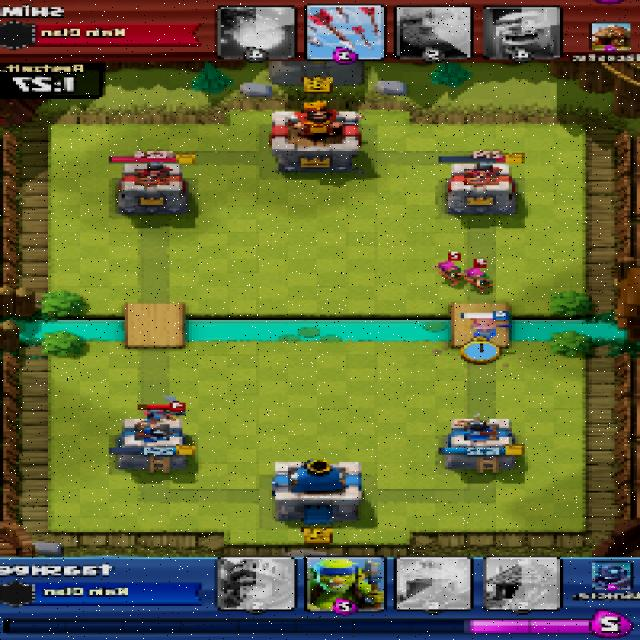Enemy-Archer: (436, 258, 466, 283), (464, 268, 492, 290)
Enemy-MiniPEKKA: (137, 397, 190, 422)
Player-Valkyrie: (466, 315, 513, 342)
